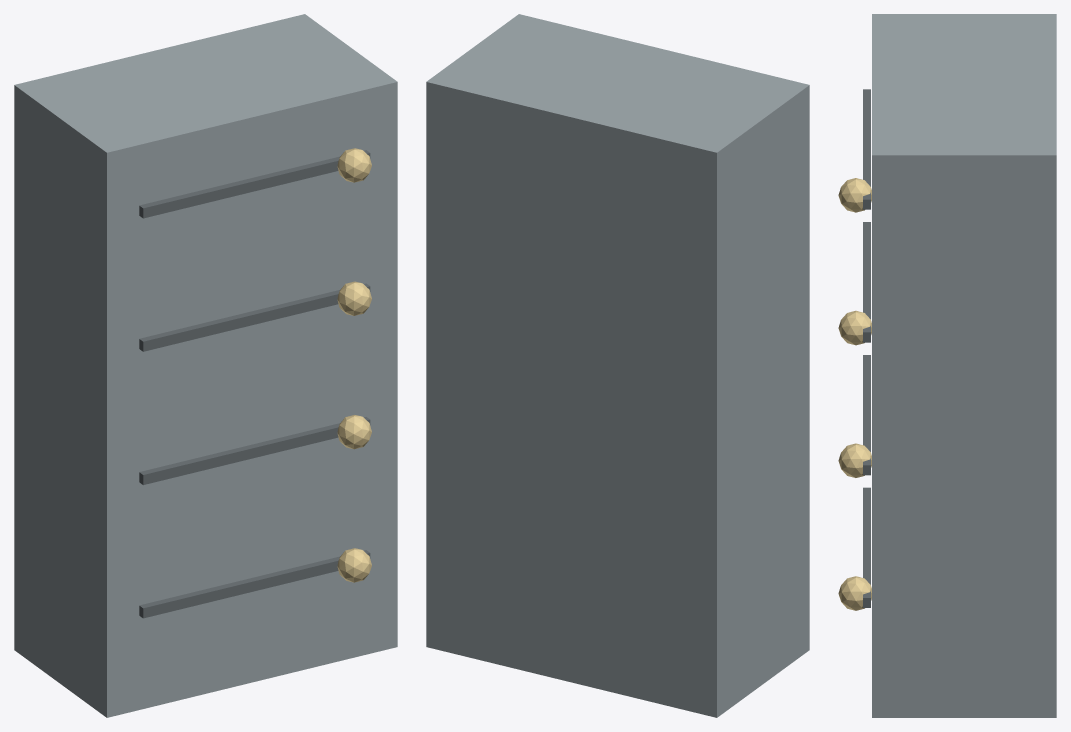
The model's file is community_locker.glb.
3 renders of one model, left to right at view 1: azimuth 30°, elevation 25°; view 2: azimuth 150°, elevation 25°; view 3: azimuth 270°, elevation 25°, orthographic.
Visible parts, largest first — view 1: part_00, part_01, part_04, part_02, part_03, part_08, part_07, part_05, part_06; view 2: part_00; view 3: part_00, part_04, part_01, part_02, part_03, part_05, part_06, part_07, part_08.
Boxes of the visible parts, x1=… form: part_00: x1=14, y1=14, x2=397, y2=717; part_01: x1=139, y1=550, x2=370, y2=618; part_04: x1=139, y1=150, x2=370, y2=218; part_02: x1=139, y1=417, x2=370, y2=484; part_03: x1=139, y1=283, x2=370, y2=351; part_08: x1=337, y1=148, x2=371, y2=182; part_07: x1=337, y1=281, x2=371, y2=315; part_05: x1=337, y1=548, x2=371, y2=582; part_06: x1=337, y1=415, x2=371, y2=449; part_00: x1=426, y1=14, x2=809, y2=717; part_00: x1=872, y1=14, x2=1056, y2=717; part_04: x1=863, y1=89, x2=870, y2=209; part_01: x1=863, y1=487, x2=870, y2=607; part_02: x1=863, y1=355, x2=870, y2=475; part_03: x1=863, y1=222, x2=870, y2=342; part_05: x1=838, y1=576, x2=871, y2=610; part_06: x1=838, y1=443, x2=871, y2=477; part_07: x1=838, y1=310, x2=871, y2=345; part_08: x1=838, y1=178, x2=871, y2=212.
Bounding box in the file's own units: 1.05 × 1.95 × 0.685.
